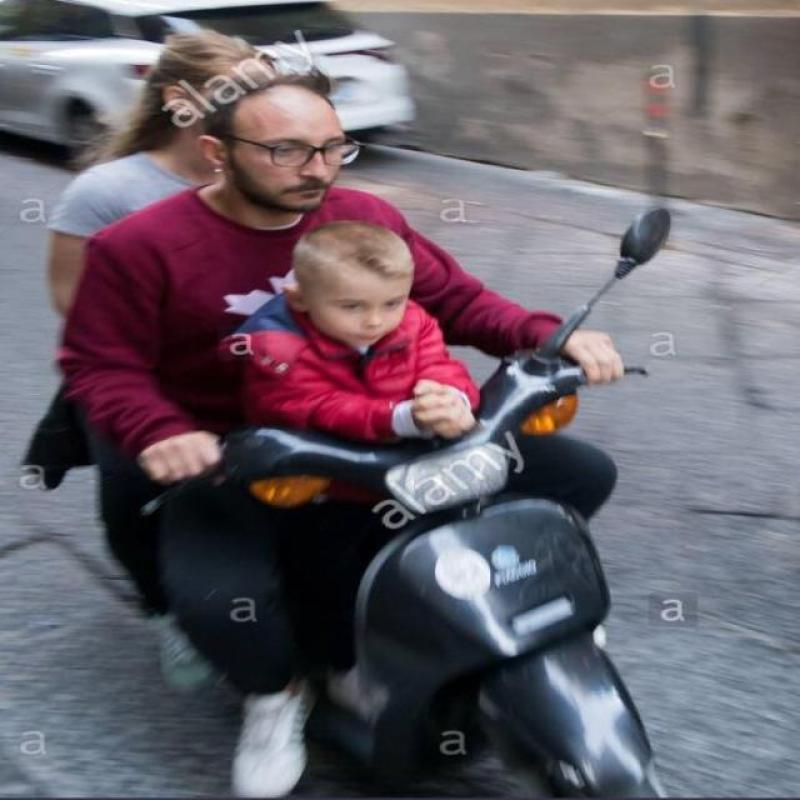nohelmet: (262, 215, 436, 340), (218, 82, 376, 194)
